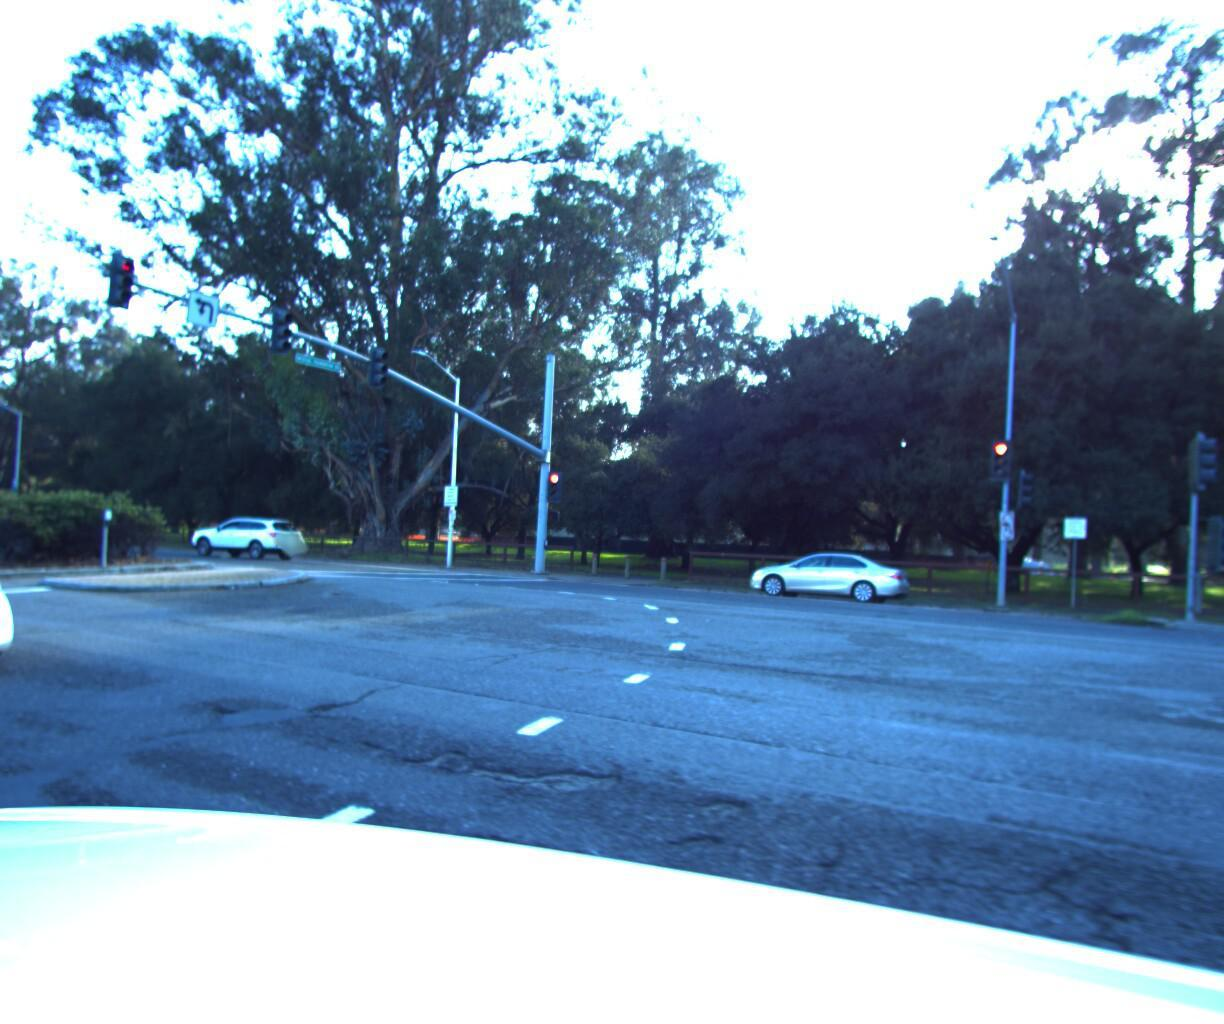car: (738, 540, 914, 603), (0, 489, 48, 715), (185, 508, 317, 558)
